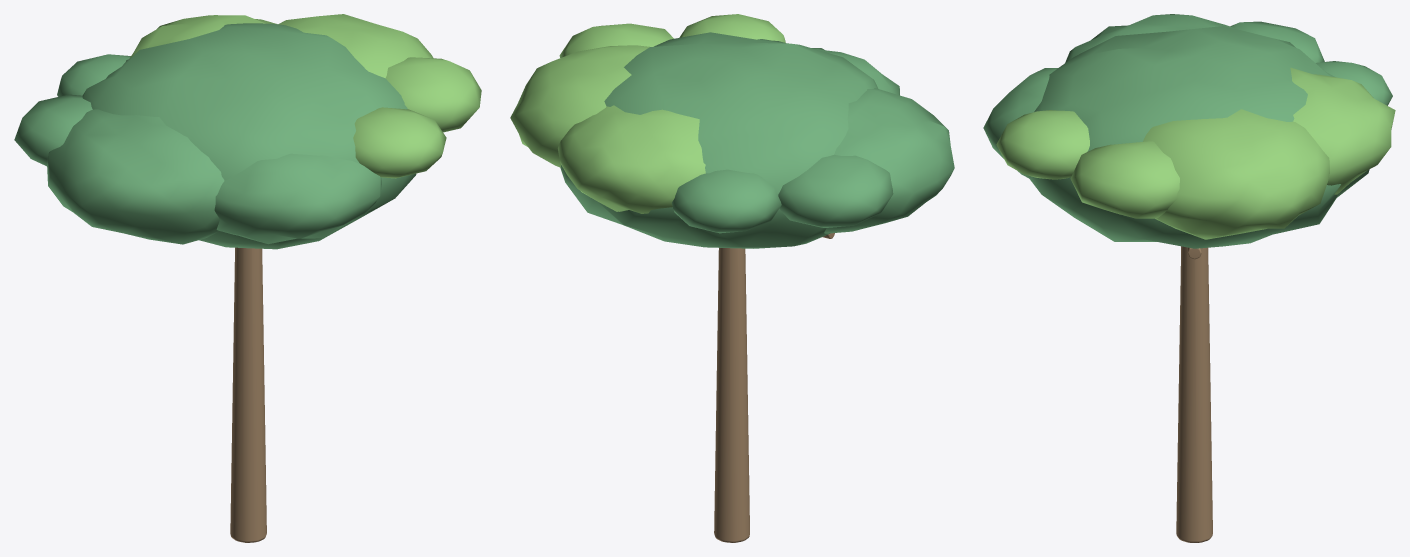
Rendered from tree_pine.fbx.
3 views of the same model, side by side, from view 1: azimuth 30°, elevation 25°; view 2: azimuth 150°, elevation 25°; view 3: azimuth 270°, elevation 25° (orthographic).
Visible parts, largest first — view 1: Visual; view 2: Visual; view 3: Visual.
Boxes of the visible parts, x1,y1,x2,y2 form: Visual: (14,14,481,542); Visual: (510,14,954,542); Visual: (983,14,1395,542).
Size of what is drawn, in the model's own units: 614 by 722 by 561.
